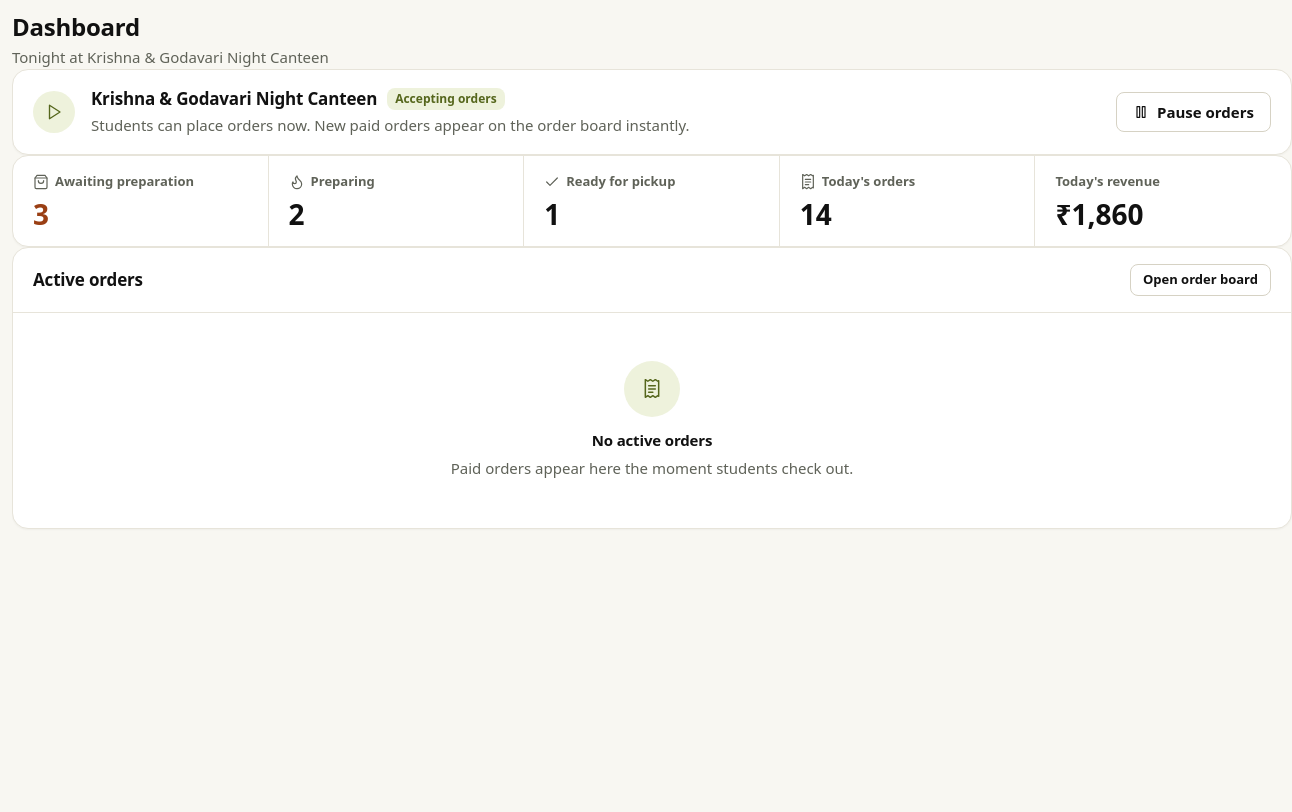
Test case: staff dashboard › pauses order-taking through the backend
The width and height of the screenshot is (1292, 812).
Click the button "Pause orders" at [1194, 112], box [1116,92,1271,132]
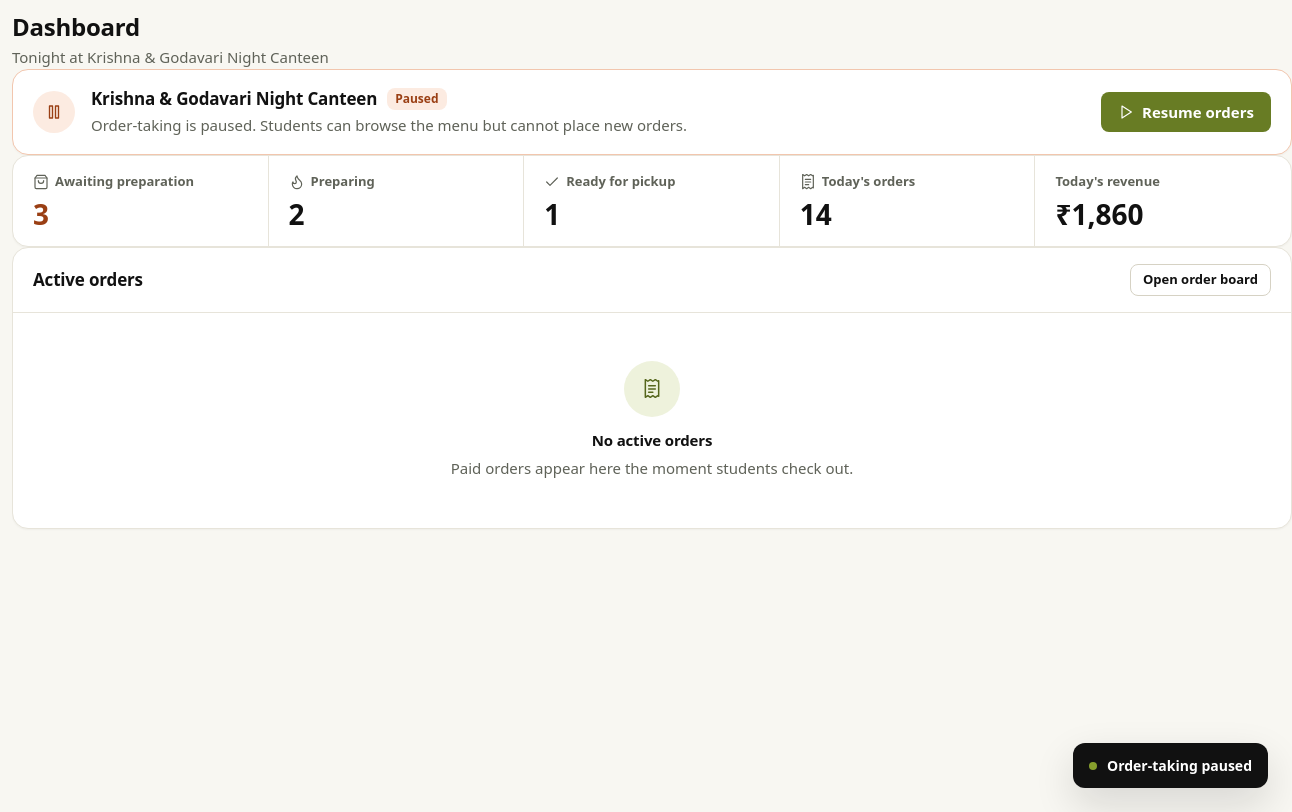
Result: the button "Resume orders" is shown at [1101,92,1271,132]
Result: the text "Order-taking is paused" is shown at [91,114,687,134]
